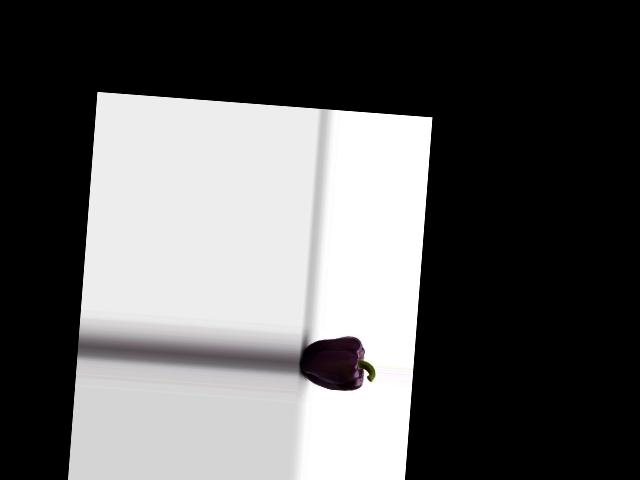bell_pepper: (299, 328, 377, 399)
